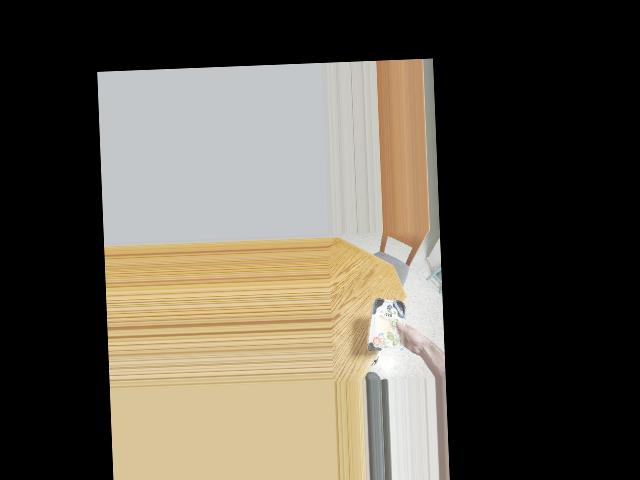cheese: (366, 297, 412, 352)
